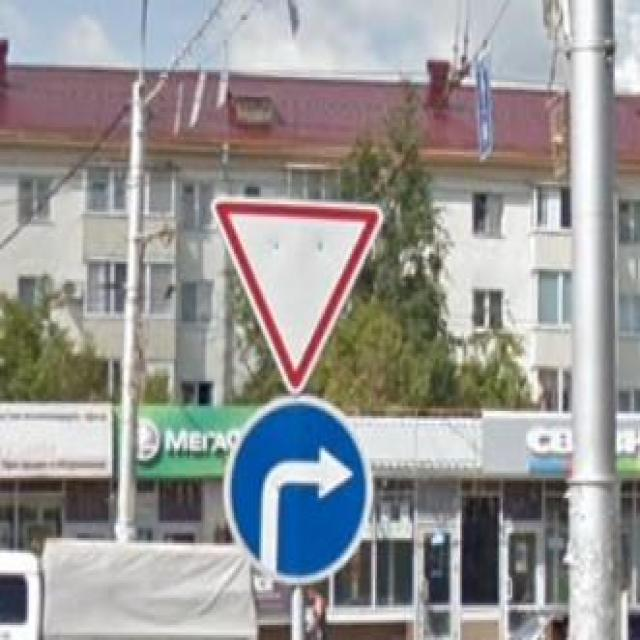give_way: (210, 197, 387, 396)
